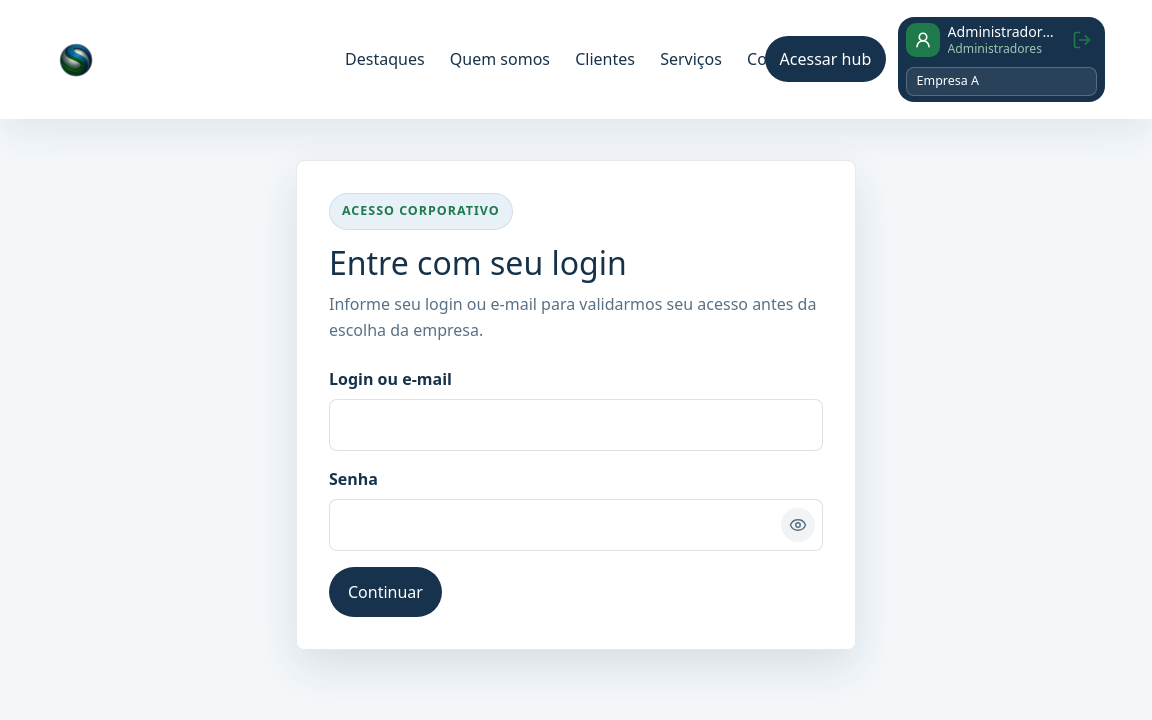
autenticação no navegador › apresenta a mensagem devolvida para credenciais inválidas
The image size is (1152, 720).
Step 1. Type "usuario.invalido" into the field named "loginOrEmail" → (576, 425), box top-left (329, 399), bottom-right (823, 451)
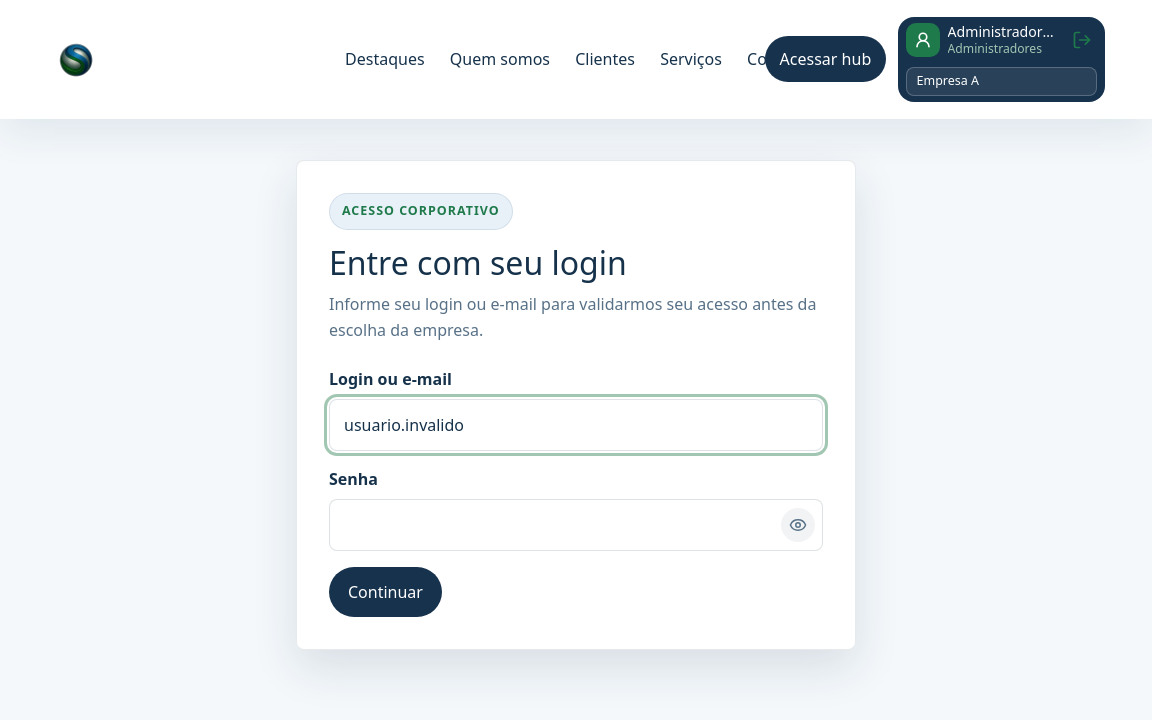
Step 2. Type "senha-invalida" into the password field named "password" → (576, 525), box top-left (329, 499), bottom-right (823, 551)
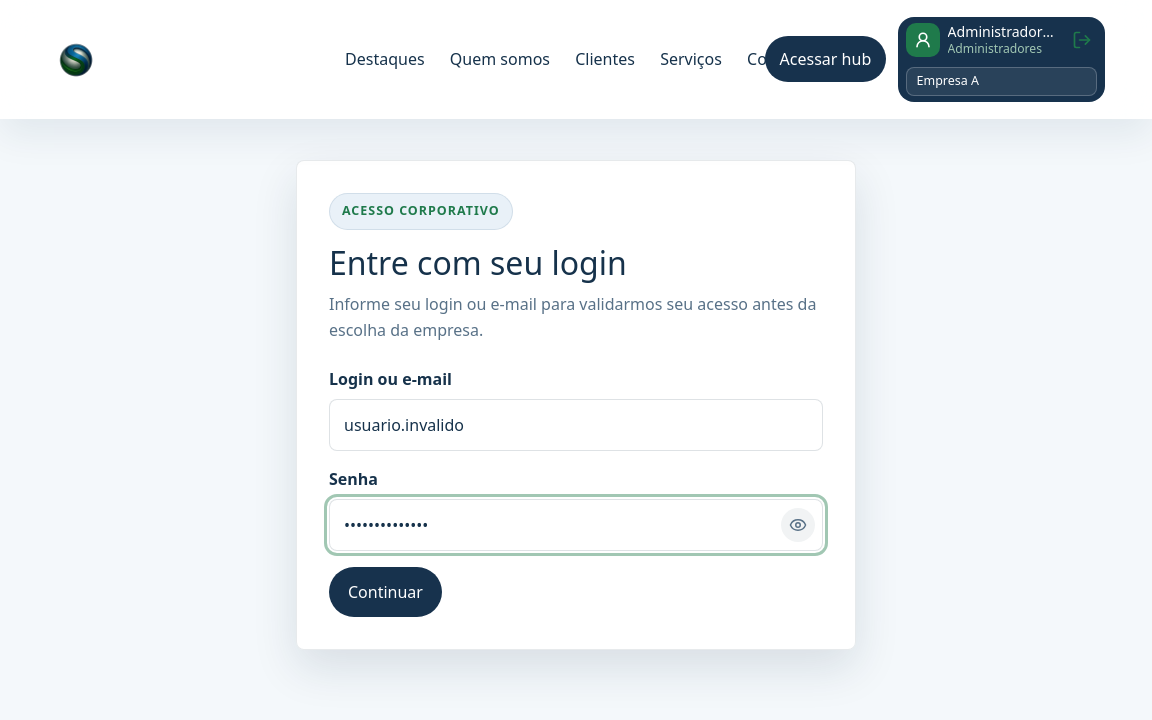
Step 3. Click the button "Continuar" → (386, 592), box top-left (329, 567), bottom-right (442, 617)
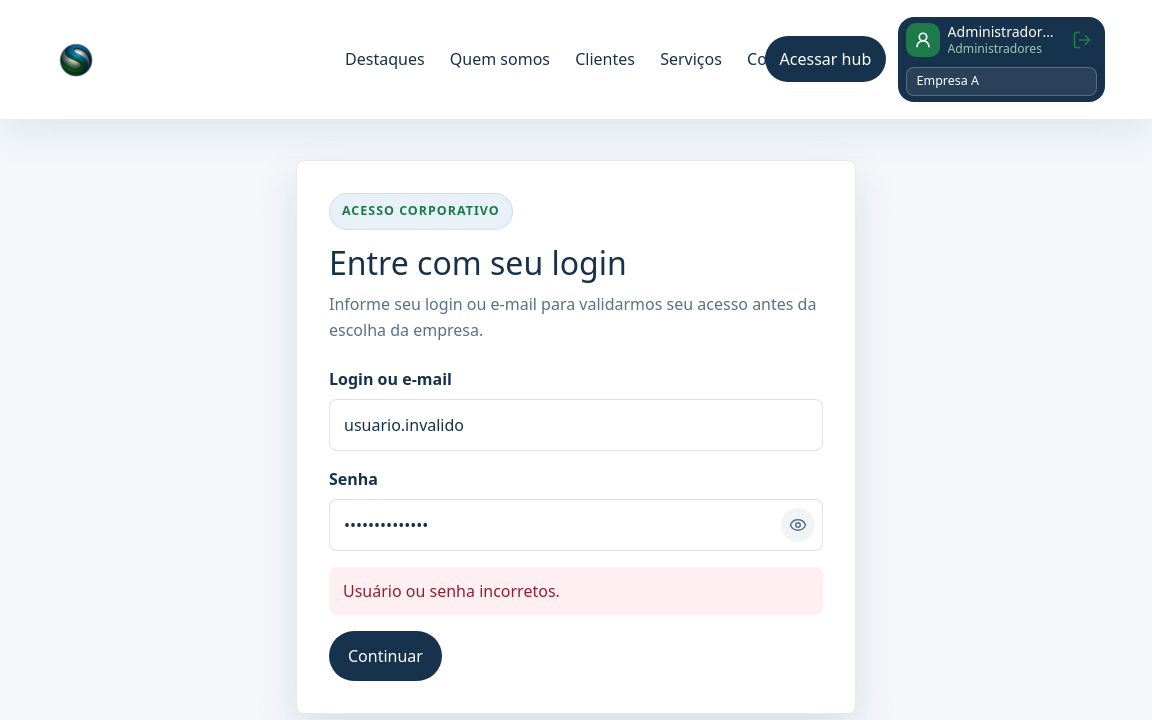
expect the message "Usuário ou senha incorretos." is shown: met, box top-left (329, 567), bottom-right (823, 615)
